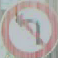Don't turn left: (4, 4, 51, 53)
